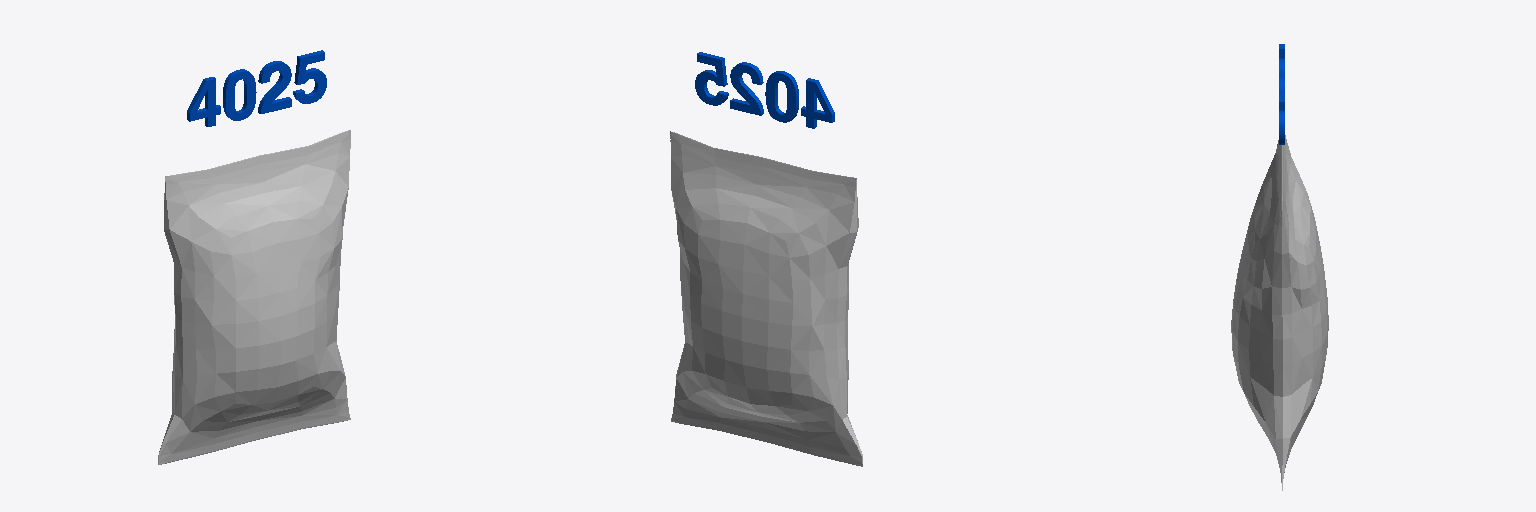
File: MAFER.obj
3 views of the same model, side by side, from view 1: azimuth 30°, elevation 25°; view 2: azimuth 150°, elevation 25°; view 3: azimuth 270°, elevation 25° (orthographic).
Visible parts, largest first — view 1: BOLSA_CACAHUATE_FRENTE, 4025; view 2: BOLSA_CACAHUATE_VUELTA, 4025; view 3: BOLSA_CACAHUATE_FRENTE, BOLSA_CACAHUATE_VUELTA, 4025.
Boxes of the visible parts, <box> form: BOLSA_CACAHUATE_FRENTE: <box>158,130,350,464</box>; 4025: <box>187,50,326,126</box>; BOLSA_CACAHUATE_VUELTA: <box>670,131,862,466</box>; 4025: <box>695,52,834,128</box>; BOLSA_CACAHUATE_FRENTE: <box>1231,140,1282,482</box>; BOLSA_CACAHUATE_VUELTA: <box>1282,135,1328,490</box>; 4025: <box>1279,44,1284,144</box>.
Bounding box in the file's own units: 1878 × 3500 × 824.